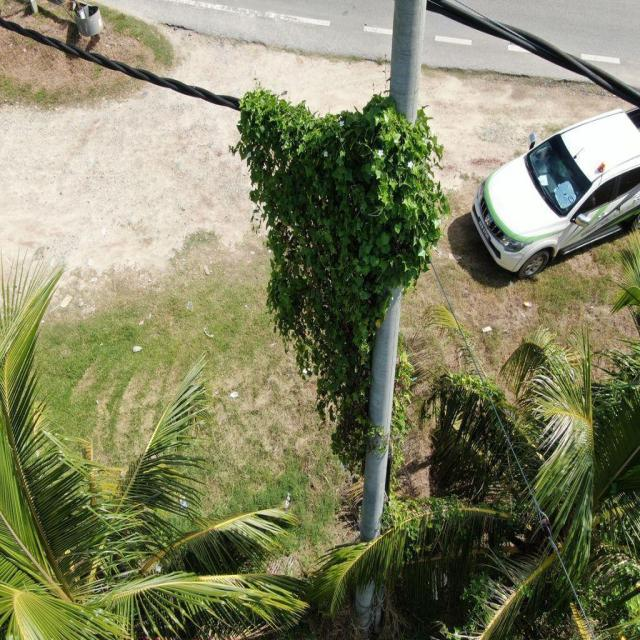light_pole: (227, 63, 452, 497)
